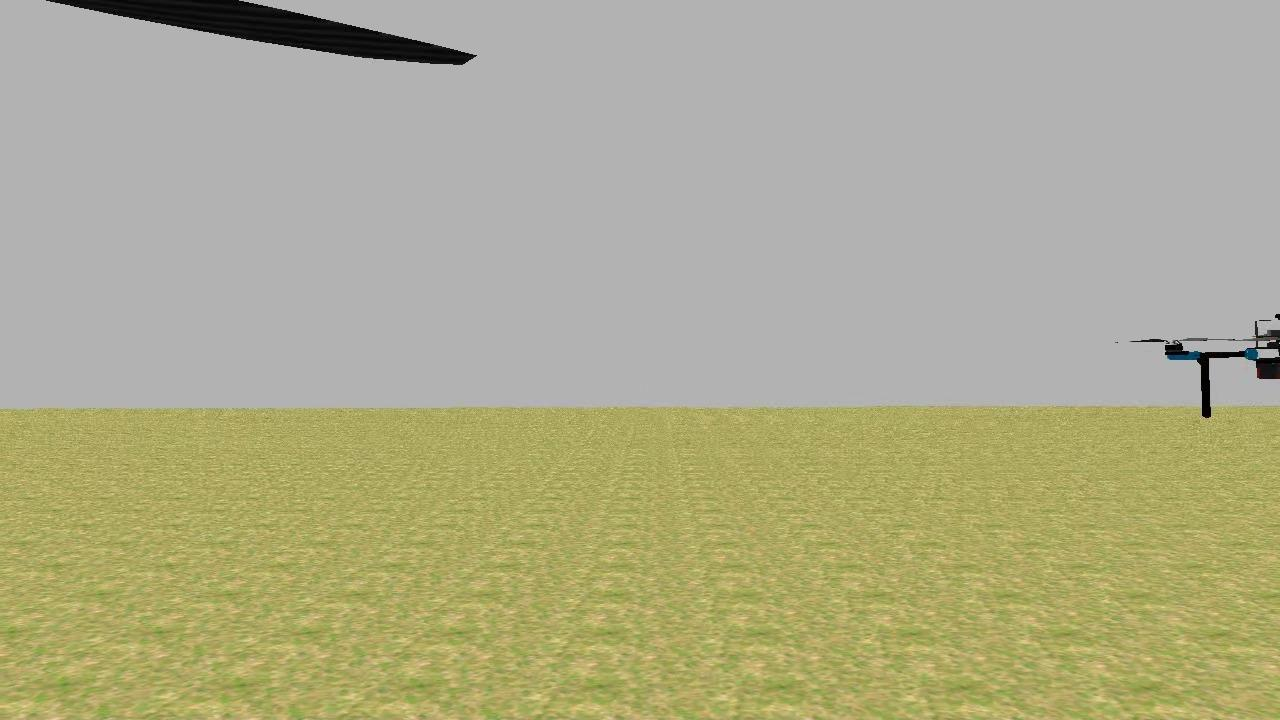UAV: (1105, 307, 1280, 432)
